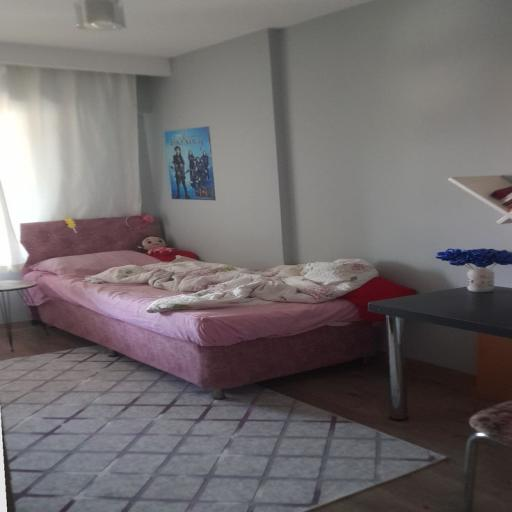bus: (464, 401, 511, 511)
person: (32, 276, 374, 396)
stroller: (368, 287, 511, 420), (0, 280, 36, 350)
